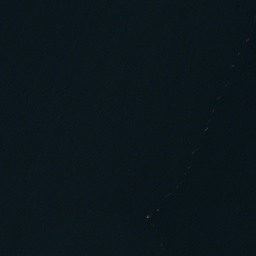Marine Debris: (145, 215, 151, 219)
